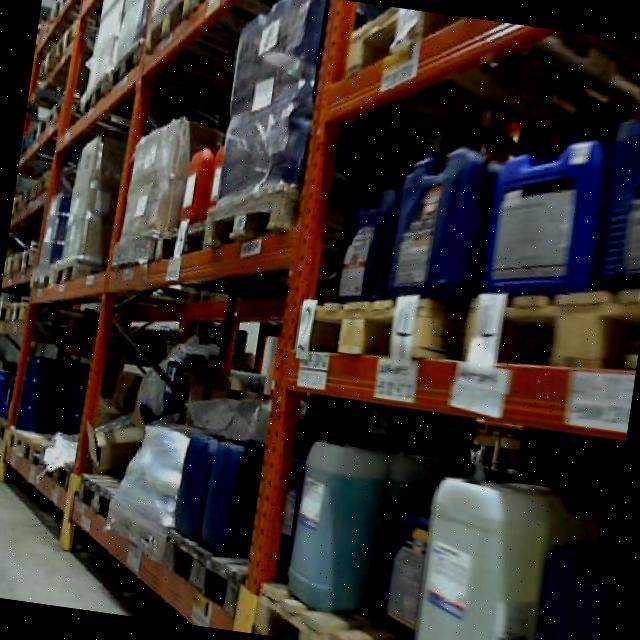pallet: (456, 253, 640, 396), (288, 284, 466, 376), (156, 522, 252, 627), (197, 177, 302, 258), (336, 9, 419, 82), (141, 215, 223, 269), (75, 470, 121, 533), (2, 417, 51, 474), (143, 0, 191, 54), (42, 251, 101, 293), (106, 35, 144, 95)
